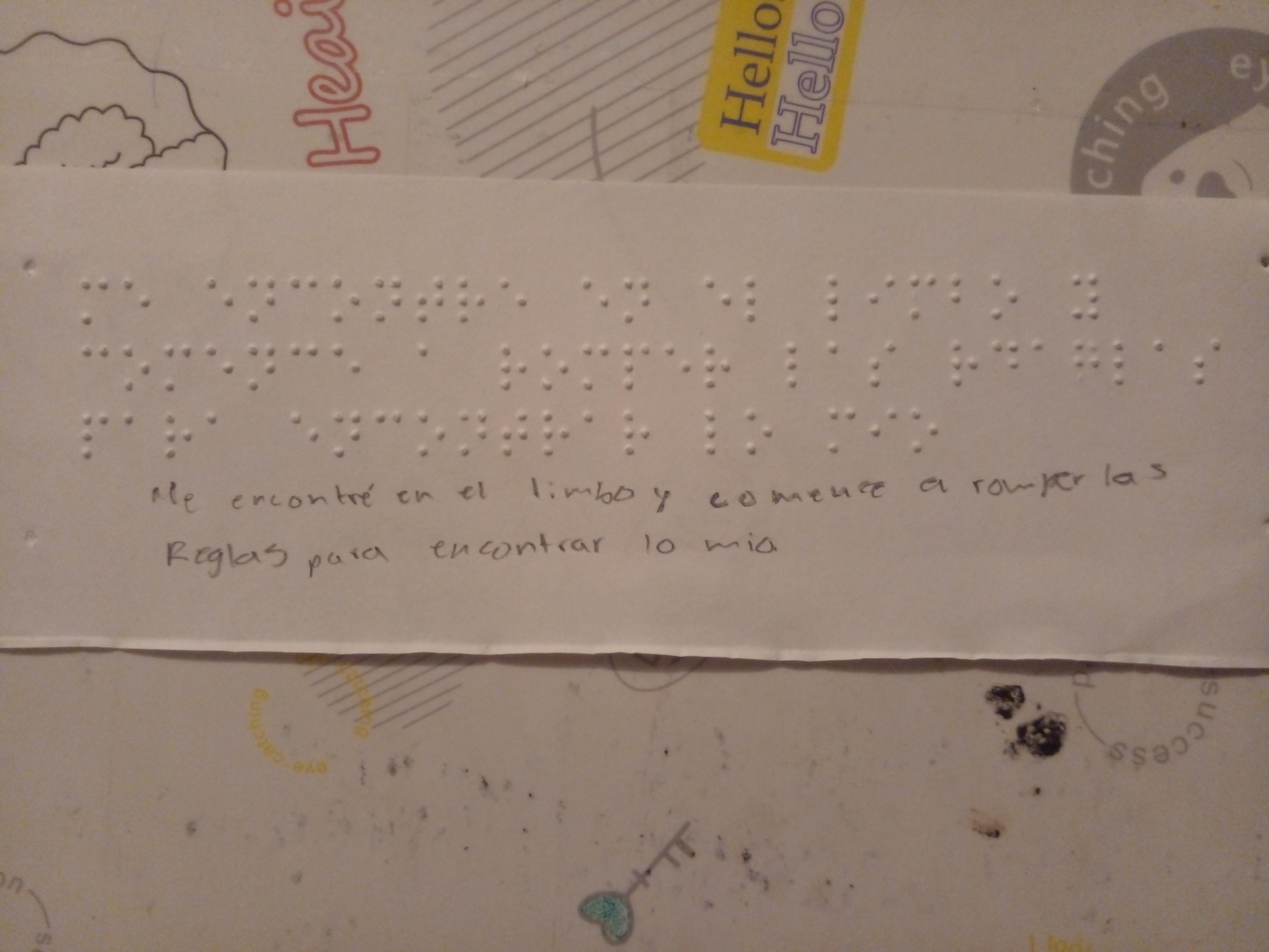a: (115, 404, 143, 443), (200, 409, 232, 442), (407, 338, 440, 367), (1029, 330, 1053, 369), (824, 339, 849, 372), (1143, 336, 1170, 366), (579, 403, 599, 439)
b: (946, 262, 976, 318)
c: (288, 267, 325, 318), (285, 339, 324, 384), (68, 342, 116, 378), (372, 408, 407, 435)
d: (985, 333, 1021, 390)
e: (115, 273, 158, 325), (657, 336, 700, 387), (203, 267, 235, 333), (328, 333, 366, 384), (288, 406, 325, 456), (197, 344, 237, 390), (700, 273, 736, 324), (496, 271, 533, 319), (579, 273, 613, 324)
g: (1067, 332, 1104, 383)
i: (858, 401, 903, 454), (860, 263, 898, 322)
l: (770, 338, 812, 398), (697, 400, 731, 460), (819, 265, 850, 330), (1108, 333, 1131, 398), (739, 270, 761, 328)
m: (67, 271, 118, 333), (155, 339, 191, 403), (903, 268, 942, 327), (578, 335, 613, 398), (821, 403, 858, 459)
n: (243, 270, 279, 330), (332, 403, 364, 468), (618, 273, 655, 328), (454, 406, 490, 462), (245, 342, 279, 397), (372, 273, 403, 332)
o: (900, 401, 951, 459), (116, 339, 155, 406), (327, 270, 364, 338), (982, 263, 1019, 324), (740, 400, 775, 463), (411, 404, 449, 457), (536, 333, 569, 394)
p: (73, 406, 115, 468), (613, 336, 654, 398)
r: (490, 333, 528, 400), (615, 404, 655, 465), (536, 408, 576, 462), (696, 338, 733, 395), (945, 339, 982, 395), (158, 412, 198, 463), (454, 273, 483, 341)
s: (855, 330, 905, 394), (1188, 327, 1230, 398)
t: (406, 274, 446, 335), (497, 409, 531, 460)
y: (1061, 259, 1112, 328)
